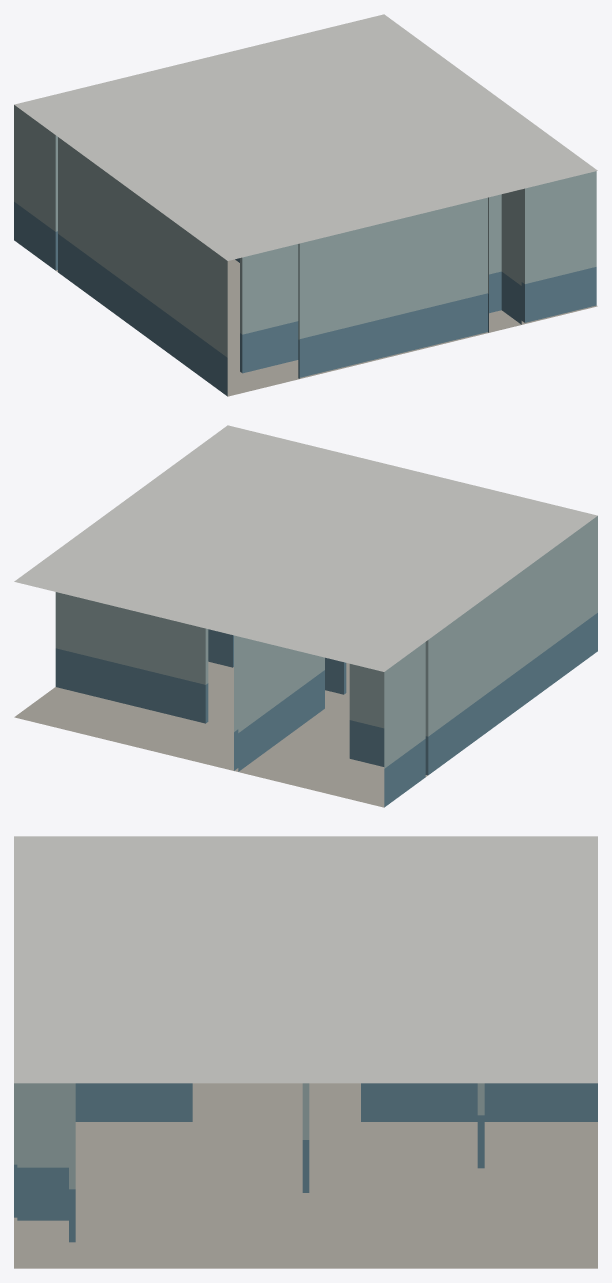
The model's file is chunk_0_2.glb.
3 views of the same model, one above another, from view 1: azimuth 30°, elevation 25°; view 2: azimuth 150°, elevation 25°; view 3: azimuth 270°, elevation 25° (orthographic). The views are drawn at different scales.
Parts seen in each view (by area): view 1: chunk_0_2; view 2: chunk_0_2; view 3: chunk_0_2.
Boxes of the visible parts, x1=… form: chunk_0_2: x1=14, y1=14, x2=597, y2=396; chunk_0_2: x1=14, y1=425, x2=597, y2=807; chunk_0_2: x1=14, y1=836, x2=597, y2=1268.
Size of the model in its own units: 12 by 4.2 by 12.
